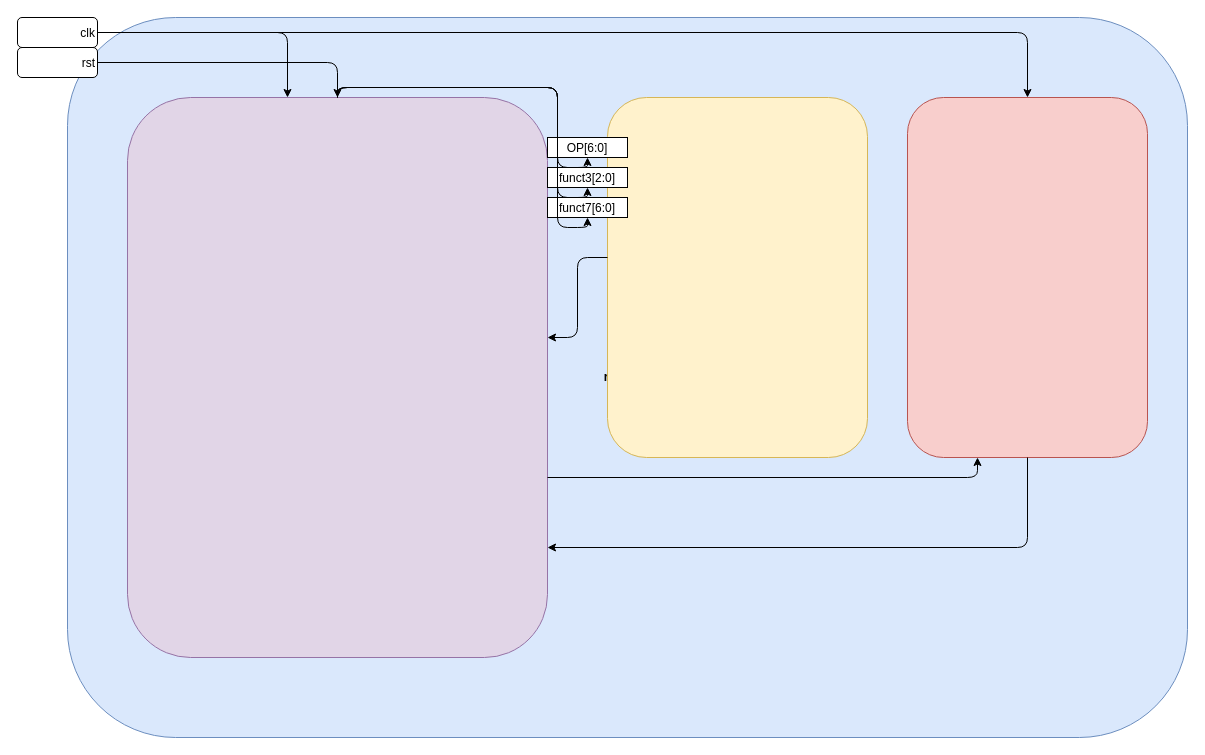
This 1205x755 diagram has some shape labels left out. The centre of each missing label's shape, as x and y in pixels:
"Controller" belongs at (737,277).
"Datapath" belongs at (337,377).
"Hazard Unit" belongs at (1027,277).
